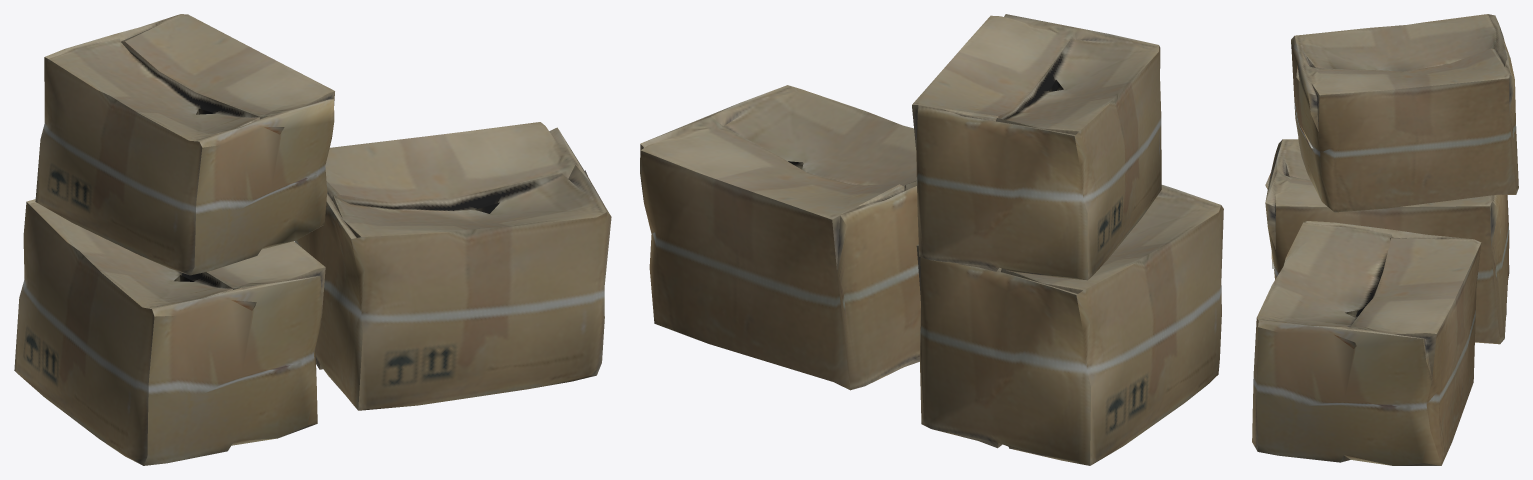
Rendered from BoxStack.fbx.
3 views of the same model, side by side, from view 1: azimuth 30°, elevation 25°; view 2: azimuth 150°, elevation 25°; view 3: azimuth 270°, elevation 25° (orthographic). The views are drawn at different scales.
Visible parts, largest first — view 1: BoxStack; view 2: BoxStack; view 3: BoxStack.
Part boxes in pixels (box(x1,y1,x2,y2)): BoxStack: box(14, 14, 611, 465); BoxStack: box(640, 14, 1223, 465); BoxStack: box(1252, 14, 1518, 465).
Size of the model in its own units: 1.03 by 0.6279 by 0.5605.
